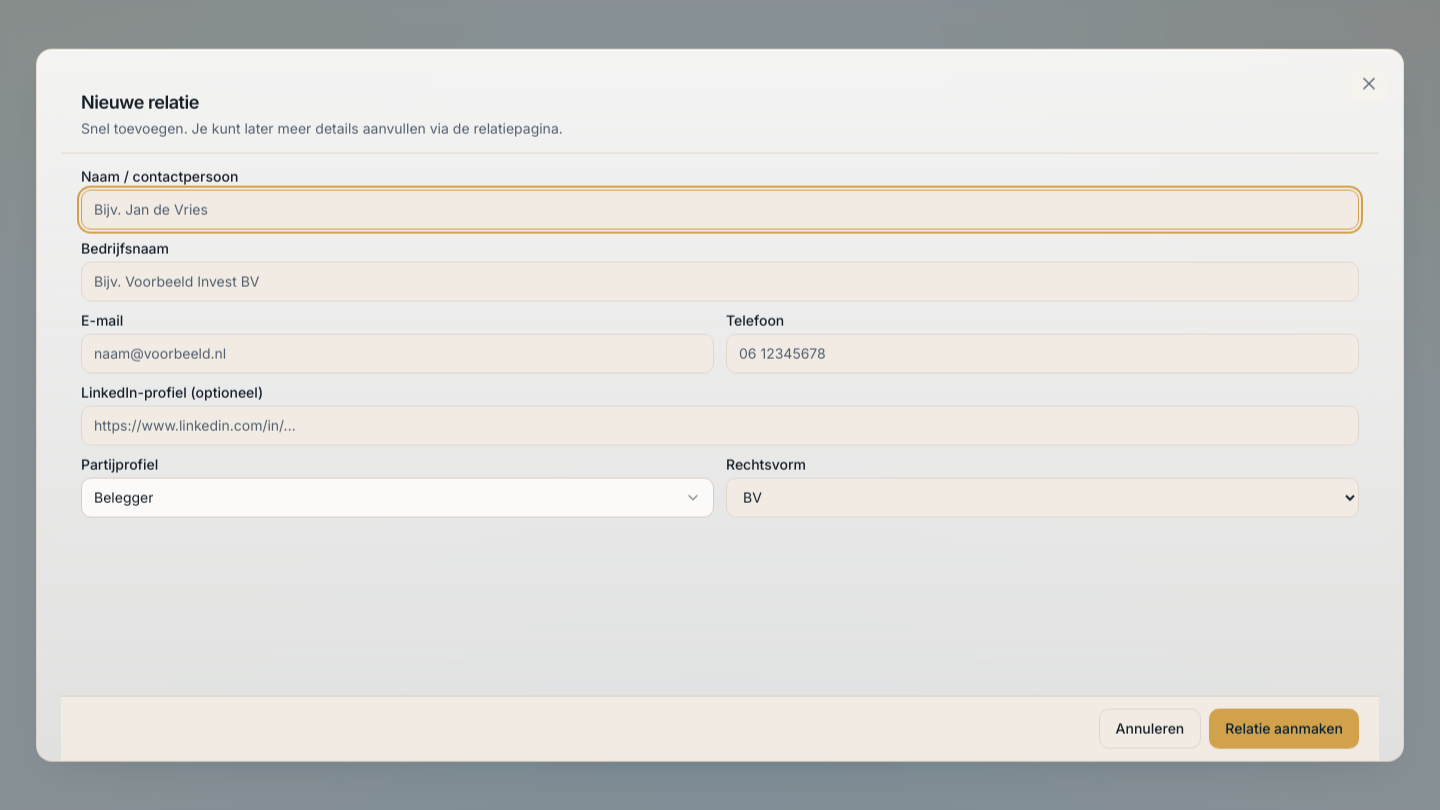
QuickCreateRelationDialog › telt "Onbekend" als leeg en slaat het niet op
Type "Onbekend" into the field labelled "Naam / contactpersoon" at (720, 209), box [81,189,1359,229]
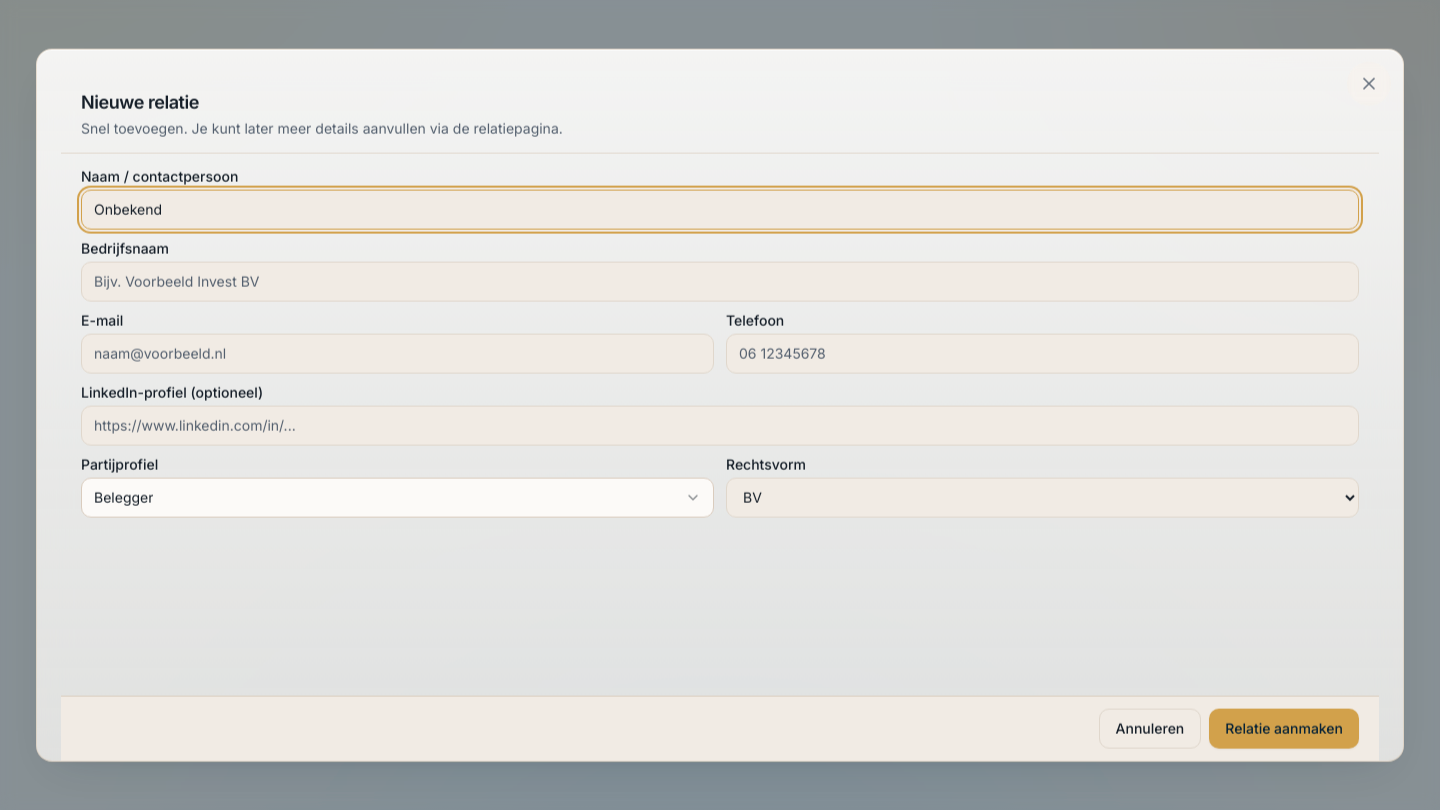
Type "-" into the field labelled "Bedrijfsnaam" at (720, 281), box [81,261,1359,301]
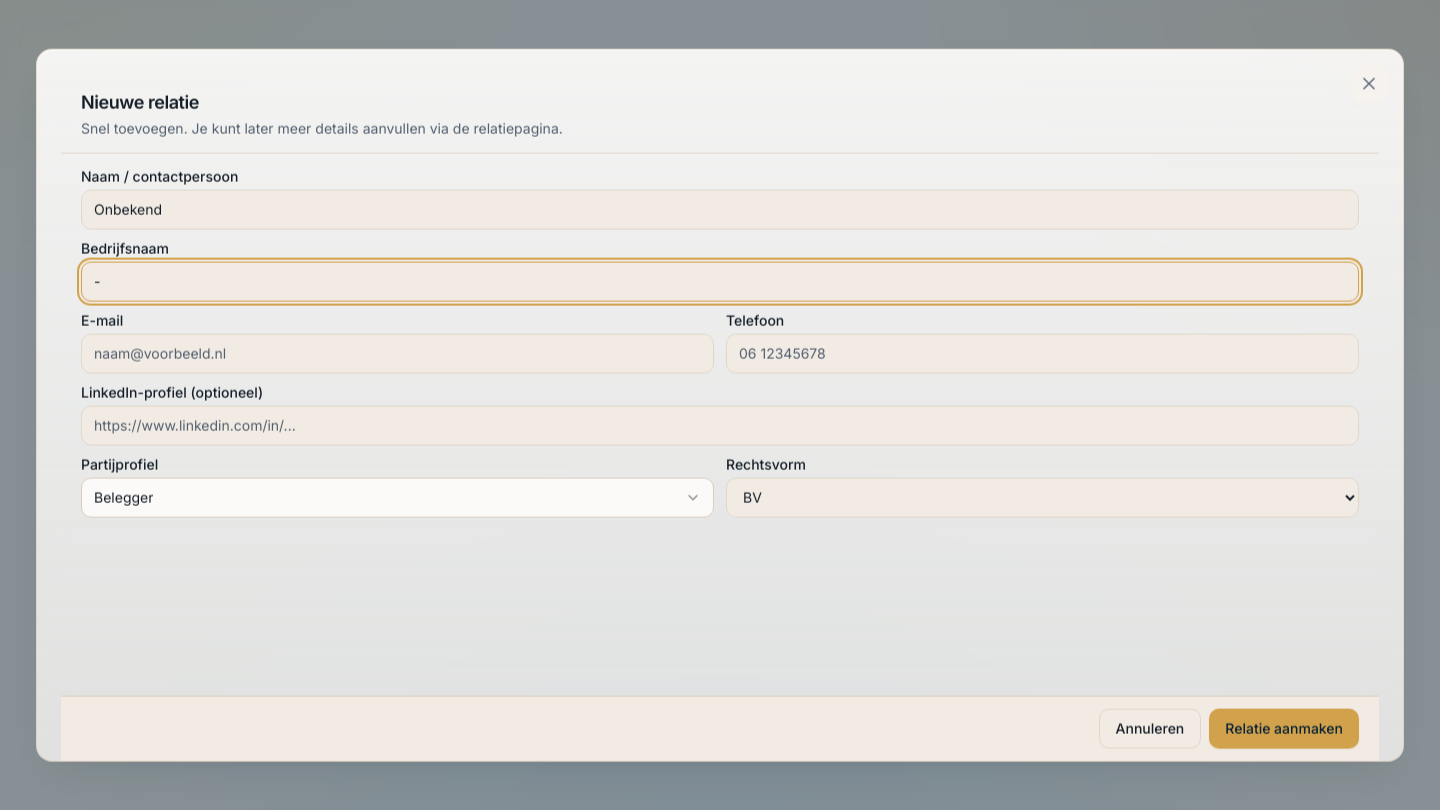
Click the button "Relatie aanmaken" at (1284, 728), box [1209,708,1359,748]
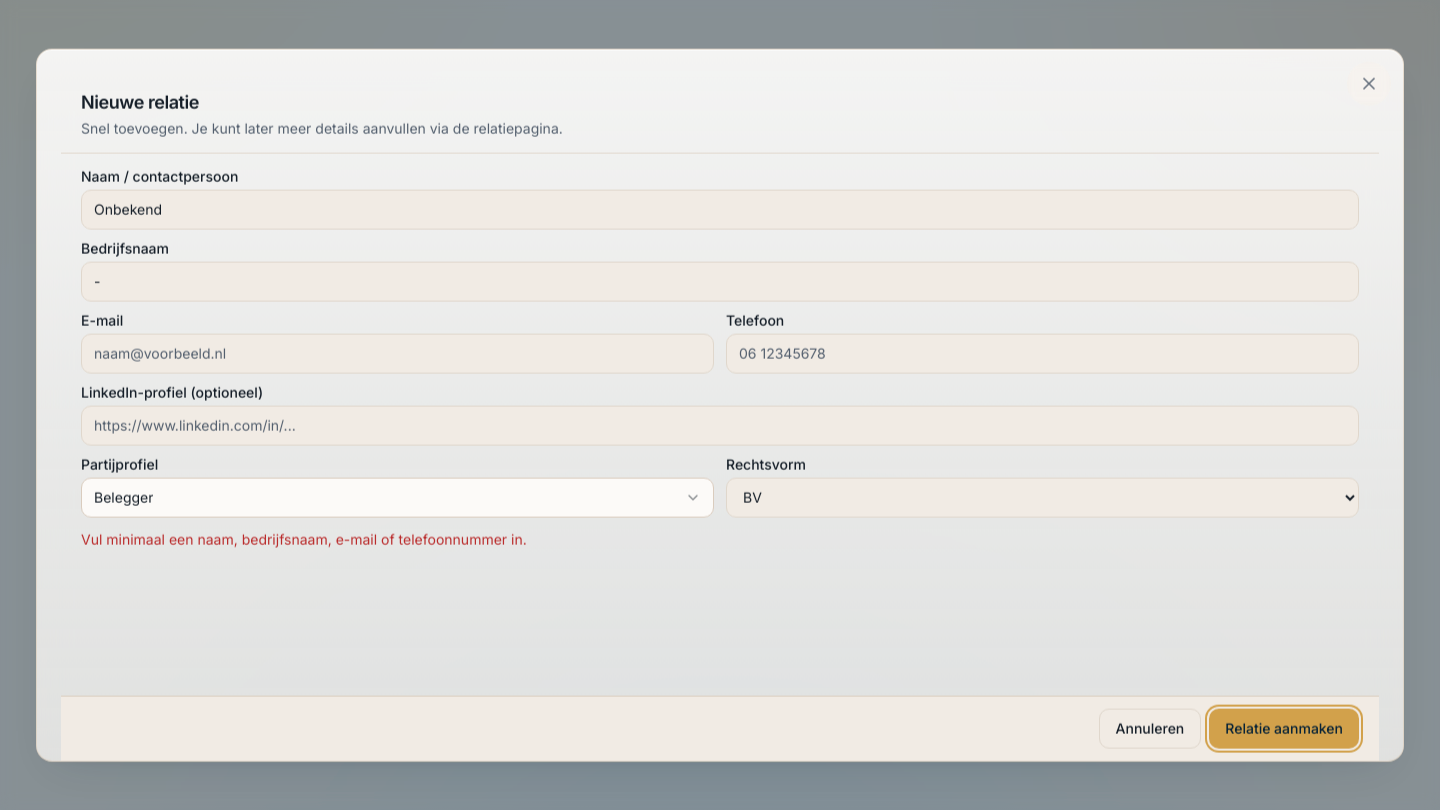
Expected: the text "Vul minimaal een naam, bedrijfsnaam, e-mail of telefoonnummer in." is shown, [81,530,527,547]
